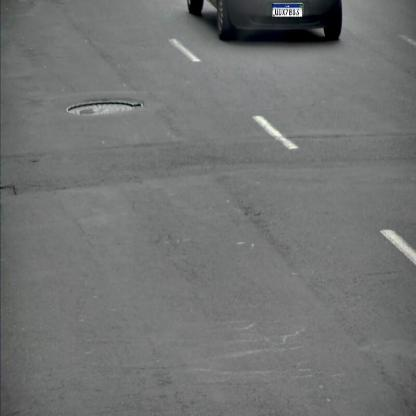PlacaM: (272, 4, 303, 17)
